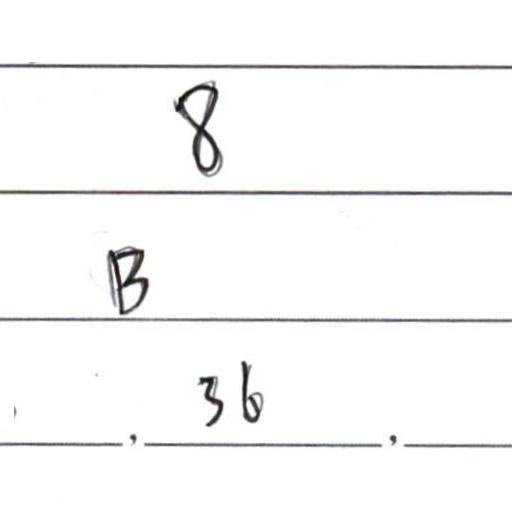ans: (164, 73, 226, 176), (191, 354, 263, 428), (103, 243, 154, 317)
